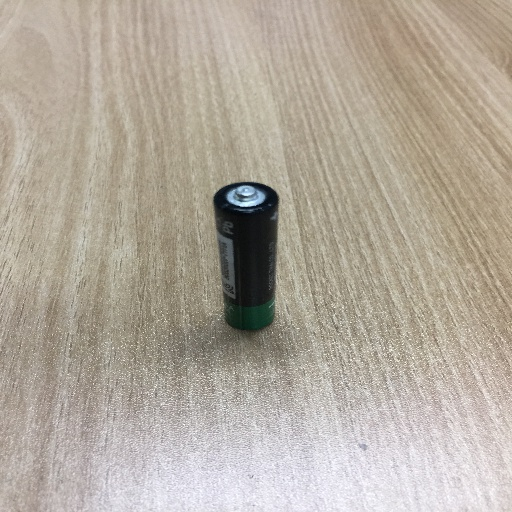Battery_0: (206, 173, 291, 336)
